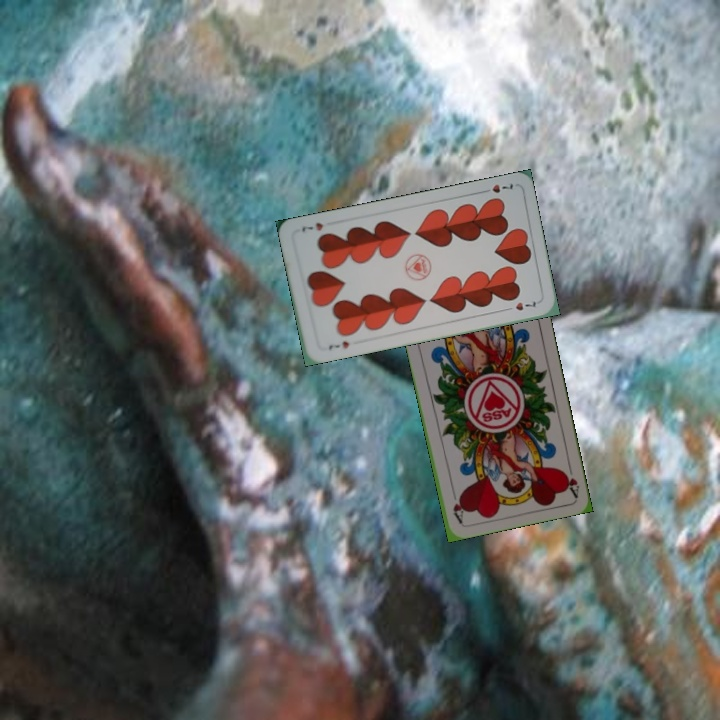H7: (477, 179, 516, 196), (324, 337, 351, 352)
HA: (559, 458, 582, 498)
